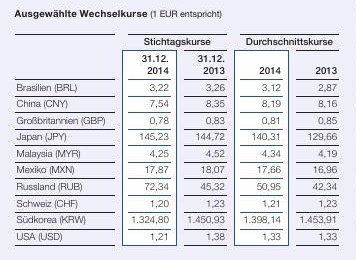table: (0, 0, 356, 260)
